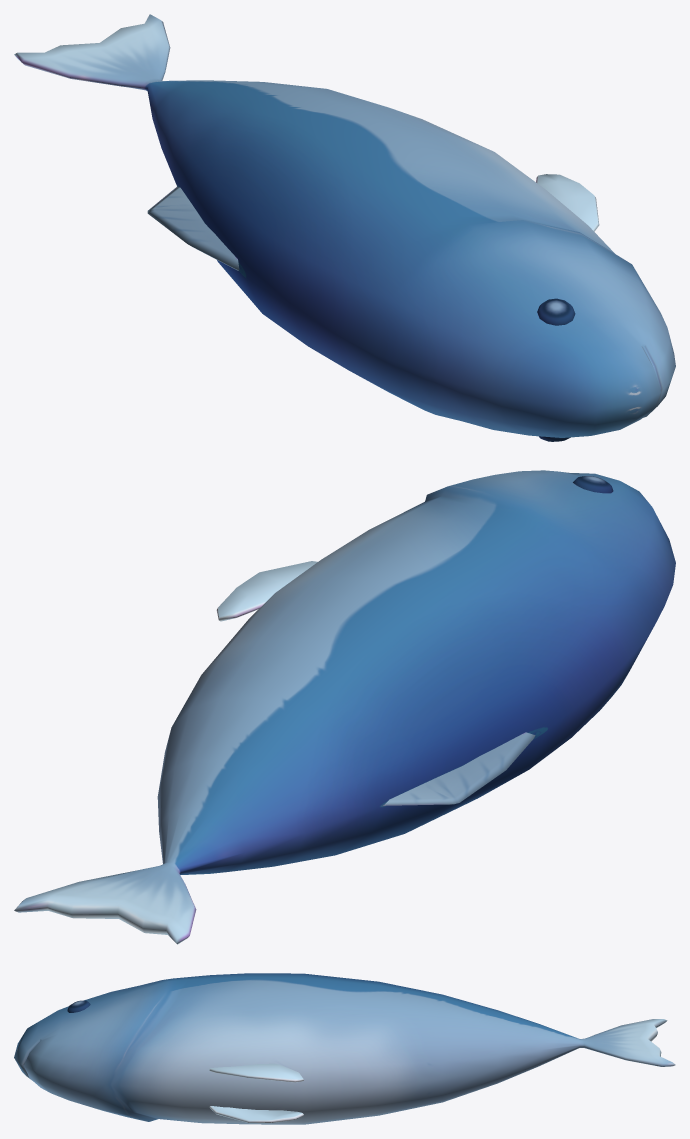
Rendered from Fish.fbx.
3 renders of one model, top to bottom at view 1: azimuth 30°, elevation 25°; view 2: azimuth 150°, elevation 25°; view 3: azimuth 270°, elevation 25°, orthographic. The views are drawn at different scales.
Parts seen in each view (by area): view 1: polySurface11, polySurface10, polySurface6; view 2: polySurface10, polySurface6, polySurface11; view 3: polySurface10, polySurface11, polySurface6.
Part boxes in pixels (x1=…): polySurface11: x1=332, y1=195, x2=675, y2=441; polySurface10: x1=147, y1=88, x2=599, y2=369; polySurface6: x1=14, y1=14, x2=326, y2=186; polySurface10: x1=172, y1=518, x2=623, y2=854; polySurface6: x1=14, y1=698, x2=383, y2=944; polySurface11: x1=370, y1=470, x2=675, y2=709; polySurface10: x1=178, y1=973, x2=442, y2=1124; polySurface11: x1=14, y1=975, x2=211, y2=1122; polySurface6: x1=442, y1=994, x2=675, y2=1102.
Size of the model in its own units: 68.43 by 40.45 by 192.
